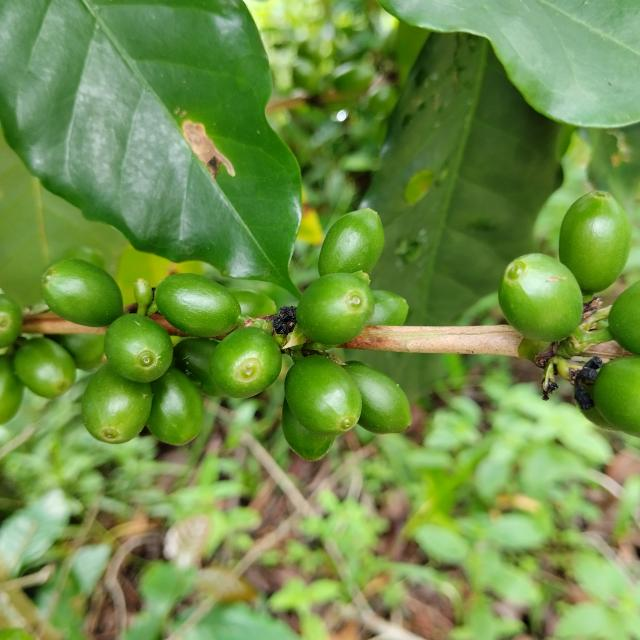green: (560, 190, 633, 295), (499, 253, 584, 342), (285, 355, 362, 437), (296, 273, 375, 345), (81, 364, 152, 444), (154, 273, 241, 337), (41, 259, 122, 327), (209, 327, 282, 398), (343, 361, 412, 434), (103, 314, 173, 383), (319, 208, 385, 276), (146, 368, 203, 446), (13, 337, 75, 398), (594, 357, 640, 437), (282, 399, 335, 461), (173, 338, 224, 397), (609, 281, 640, 355), (369, 290, 409, 326), (0, 294, 21, 348)
